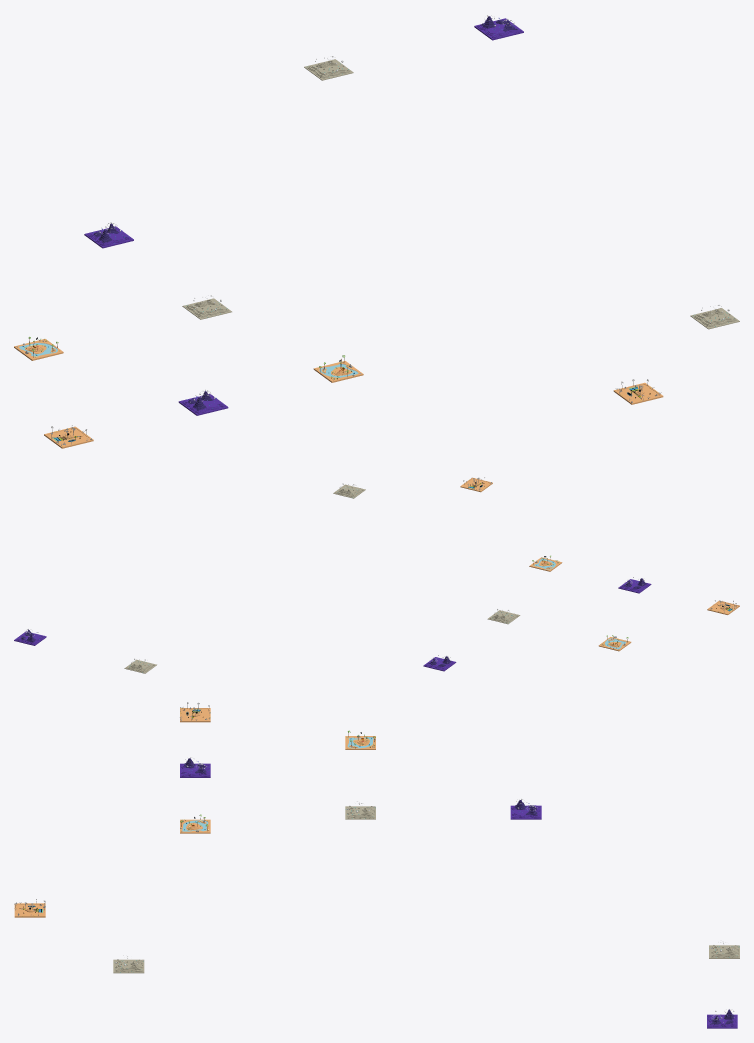
Rendered from White_area_4_D4.fbx.
3 views of the same model, one above another, from view 1: azimuth 30°, elevation 25°; view 2: azimuth 150°, elevation 25°; view 3: azimuth 270°, elevation 25° (orthographic). The views are drawn at different scales.
Parts seen in each view (by area): view 1: Plane.1208; view 2: no part large enough to name; view 3: no part large enough to name.
Part boxes in pixels (x1,y1,x2,y2): Plane.1208: (474,15,523,40).
Size of the model in its own units: 98048 by 1583 by 94083.
Materials: 19 (9 with a texture image).
